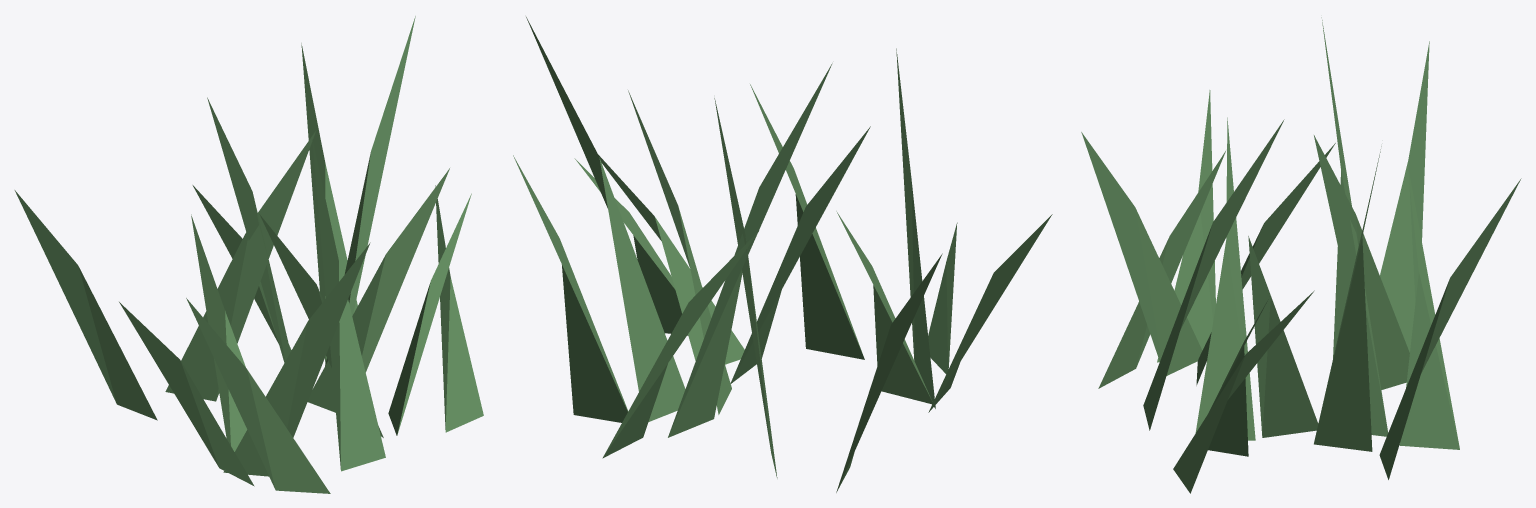
The model's file is grass-2.glb.
3 views of the same model, side by side, from view 1: azimuth 30°, elevation 25°; view 2: azimuth 150°, elevation 25°; view 3: azimuth 270°, elevation 25° (orthographic). The views are drawn at different scales.
Parts seen in each view (by area): view 1: Grass tuft.002; view 2: Grass tuft.002; view 3: Grass tuft.002.
Part boxes in pixels (x1,y1,x2,y2): Grass tuft.002: [14, 16, 483, 493]; Grass tuft.002: [513, 17, 1052, 492]; Grass tuft.002: [1081, 17, 1521, 493].
Size of the model in its own units: 0.8801 by 0.7257 by 0.7904.
